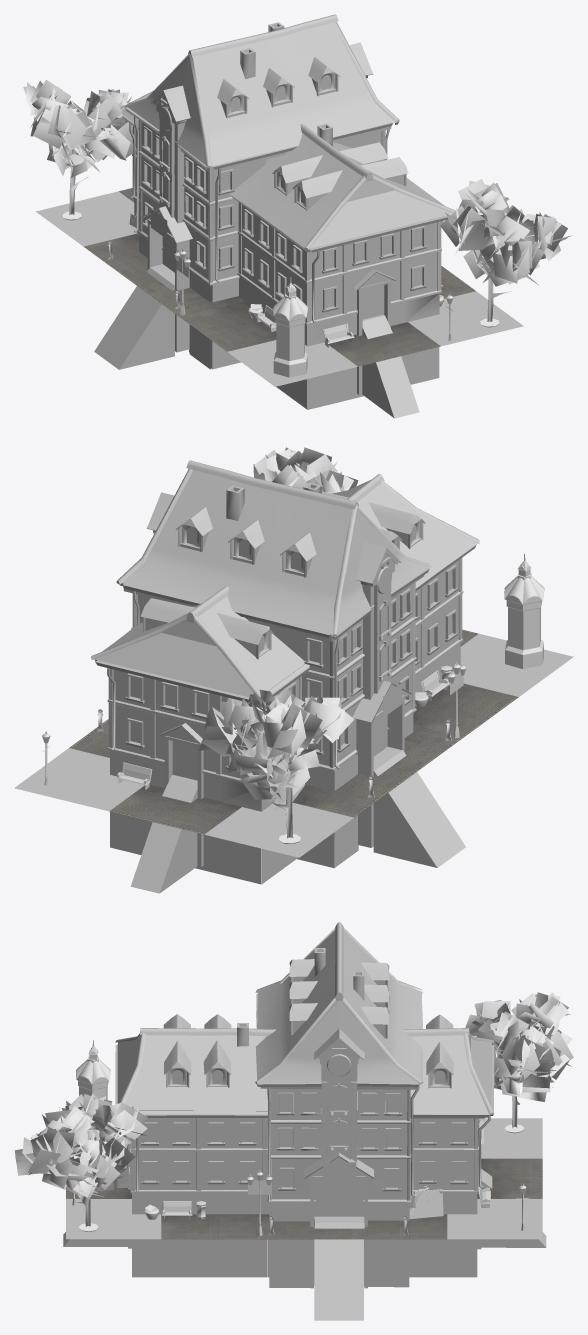
File: library.gltf
3 renders of one model, top to bottom at view 1: azimuth 30°, elevation 25°; view 2: azimuth 150°, elevation 25°; view 3: azimuth 270°, elevation 25°, orthographic. The views are drawn at different scales.
Visible parts, largest first — view 1: _lod0, prop_tree.001, prop_tree.002, file_c4_corner4.003, file_c4_corner4.001, file_c4_center3.002, file_advertiser, file_c4_corner4.004, file_c4_center3.005, file_c4_center3.004, file_c4_endr.001, file_c4_center3.003; view 2: _lod0, prop_tree.002, file_c4_corner4.003, file_c4_corner4.002, file_c4_corner4.004, file_advertiser, file_c4_center3.006, file_c4_center3.002, prop_tree.001, file_c4_center3.004, file_c4_endr.001, file_c4_center3.001 (+1 smaller); view 3: _lod0, prop_tree.001, prop_tree.002, file_c4_corner4.002, file_c4_corner4.001, file_c4_center3.003, file_c4_corner4.003, file_c4_center3.006, file_c4_center3.001, file_c4_endl.003, file_advertiser, prop_highwheeler (+1 smaller).
Part boxes in pixels (x1,y1,x2,y2): _lod0: (94,14,455,418); prop_tree.001: (440,179,571,321); prop_tree.002: (23,79,136,214); file_c4_corner4.003: (36,191,136,246); file_c4_corner4.001: (408,291,523,346); file_c4_center3.002: (179,301,276,351); file_advertiser: (273,277,308,377); file_c4_corner4.004: (227,340,357,386); file_c4_center3.005: (329,322,440,366); file_c4_center3.004: (84,233,152,281); file_c4_endr.001: (132,276,244,316); file_c4_center3.003: (439,266,475,298); _lod0: (91,460,479,893); prop_tree.002: (199,687,354,838); file_c4_corner4.003: (204,801,353,857); file_c4_corner4.002: (14,748,144,811); file_c4_corner4.004: (452,633,573,696); file_advertiser: (504,554,544,669); file_c4_center3.006: (109,784,241,834); file_c4_center3.002: (413,683,518,736); prop_tree.001: (253,447,358,493); file_c4_center3.004: (292,771,408,817); file_c4_endr.001: (379,725,463,777); file_c4_center3.001: (69,719,109,757); _lod0: (63,922,546,1320); prop_tree.001: (14,1093,147,1226); prop_tree.002: (465,992,573,1128); file_c4_corner4.002: (447,1199,542,1239); file_c4_corner4.001: (66,1199,161,1239); file_c4_center3.003: (161,1214,256,1239); file_c4_corner4.003: (480,1118,542,1158); file_c4_center3.006: (477,1158,542,1198); file_c4_center3.001: (352,1214,447,1239); file_c4_endl.003: (256,1214,351,1239); file_advertiser: (76,1040,110,1099); prop_highwheeler: (409,1185,443,1218).
Size of what is drawn, in the model's own units: 3.84 by 3.34 by 5.87.
